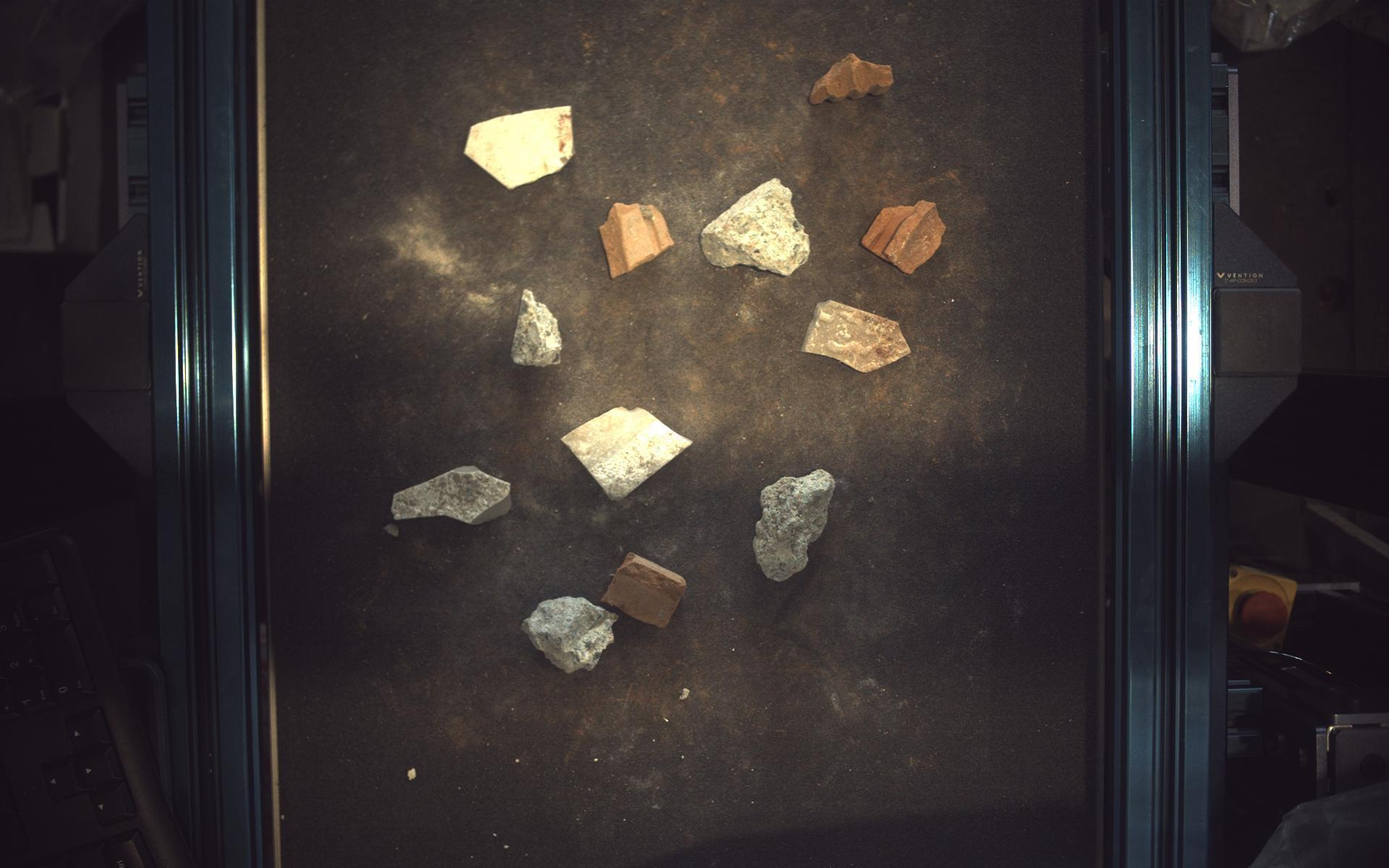brick: (601, 553, 687, 629), (863, 200, 948, 273), (600, 202, 675, 277), (810, 52, 895, 103)
concrete: (702, 178, 811, 276), (754, 469, 837, 582), (522, 597, 619, 674), (511, 289, 562, 367)
tile: (563, 407, 693, 501), (465, 105, 574, 188), (804, 299, 912, 373), (391, 466, 511, 525)
